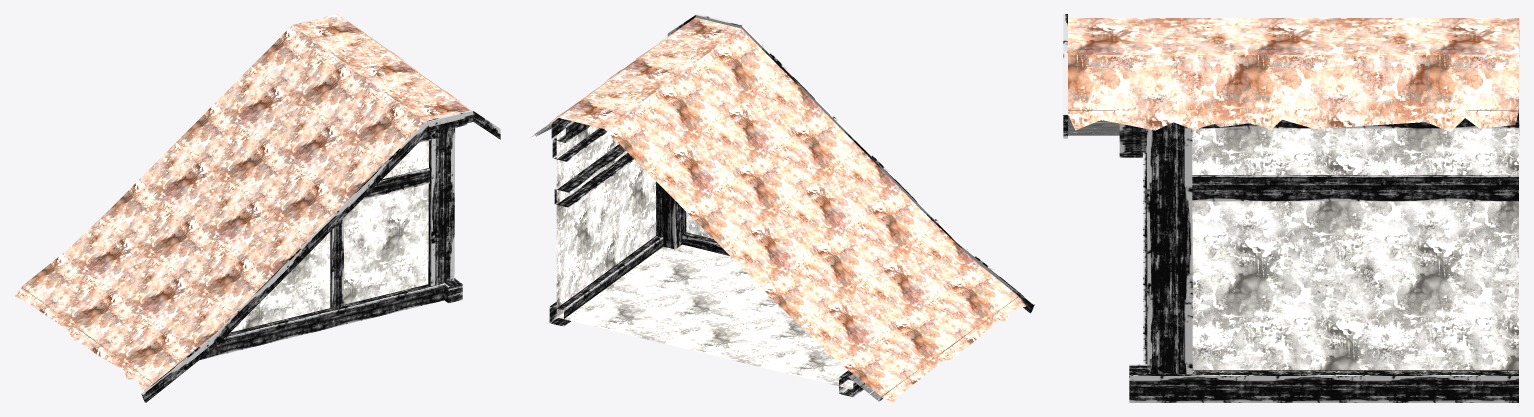
File: SM_roof_A_part_5_01_01.fbx
The picture shows the model from 3 angles, left to right: view 1: azimuth 30°, elevation 25°; view 2: azimuth 150°, elevation 25°; view 3: azimuth 270°, elevation 25°; orthographic projection. The views are drawn at different scales.
Parts seen in each view (by area): view 1: SM_roof_A_part_5_01_01_LOD0; view 2: SM_roof_A_part_5_01_01_LOD0; view 3: SM_roof_A_part_5_01_01_LOD0.
Boxes of the visible parts, <box> form: SM_roof_A_part_5_01_01_LOD0: <box>14,14,500,402</box>; SM_roof_A_part_5_01_01_LOD0: <box>532,14,1034,402</box>; SM_roof_A_part_5_01_01_LOD0: <box>1063,14,1519,402</box>.
Bounding box in the file's own units: 776 × 503 × 433.
6 materials, 6 textured.
